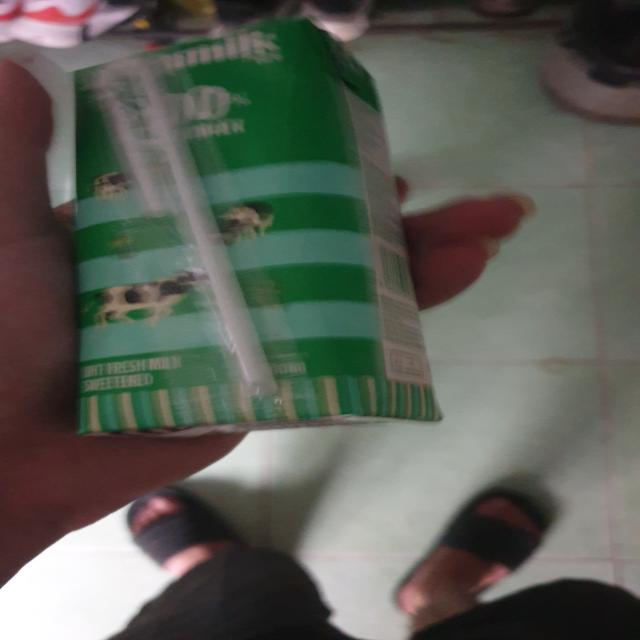Vina: (66, 18, 447, 446)
